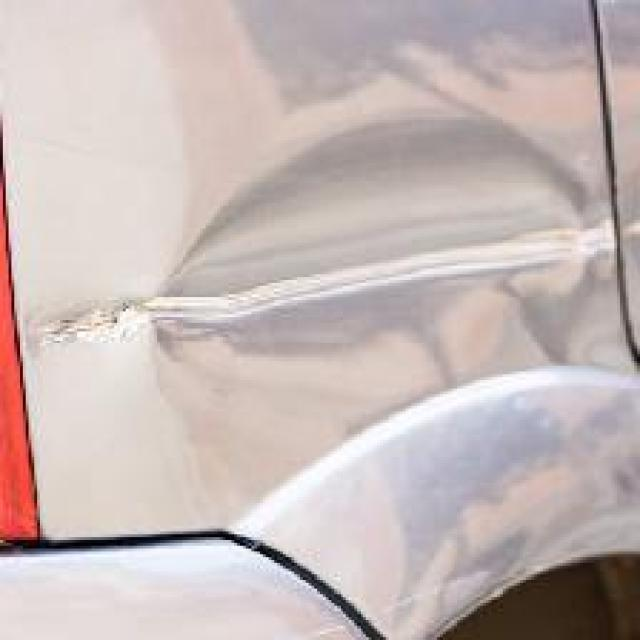damaged: (22, 108, 614, 360)
